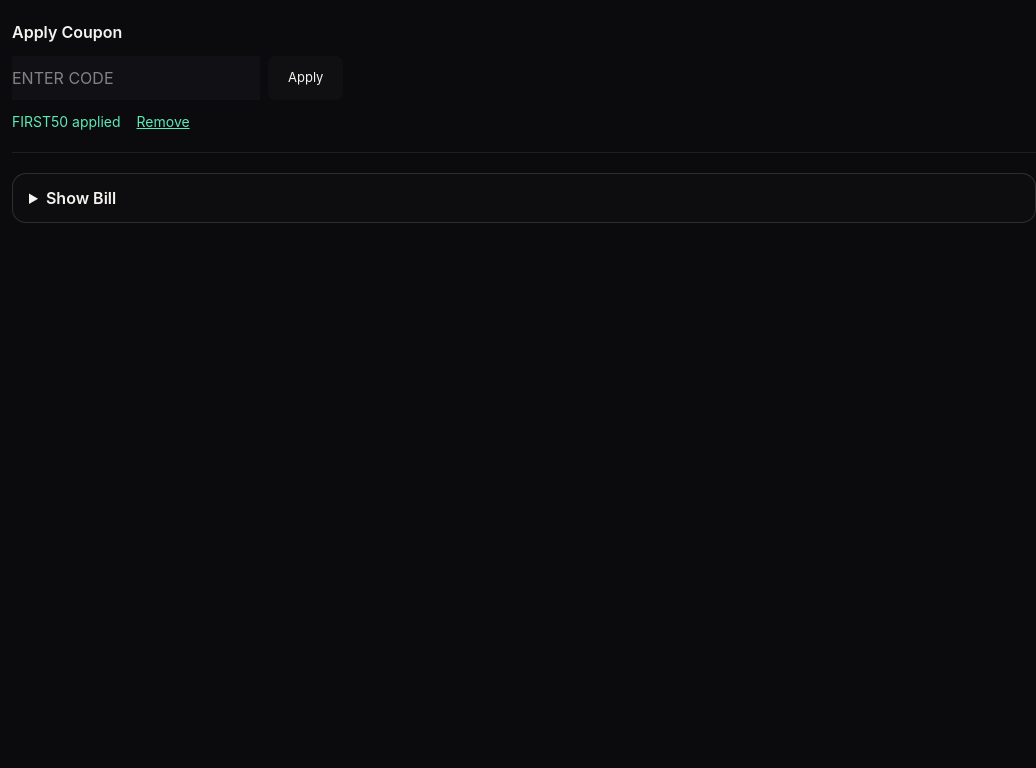
Test: shows server bill amounts, included tax and fee without calculating another total
Click the heading "Show Bill".
click(81, 198)  # box [46,188,116,208]
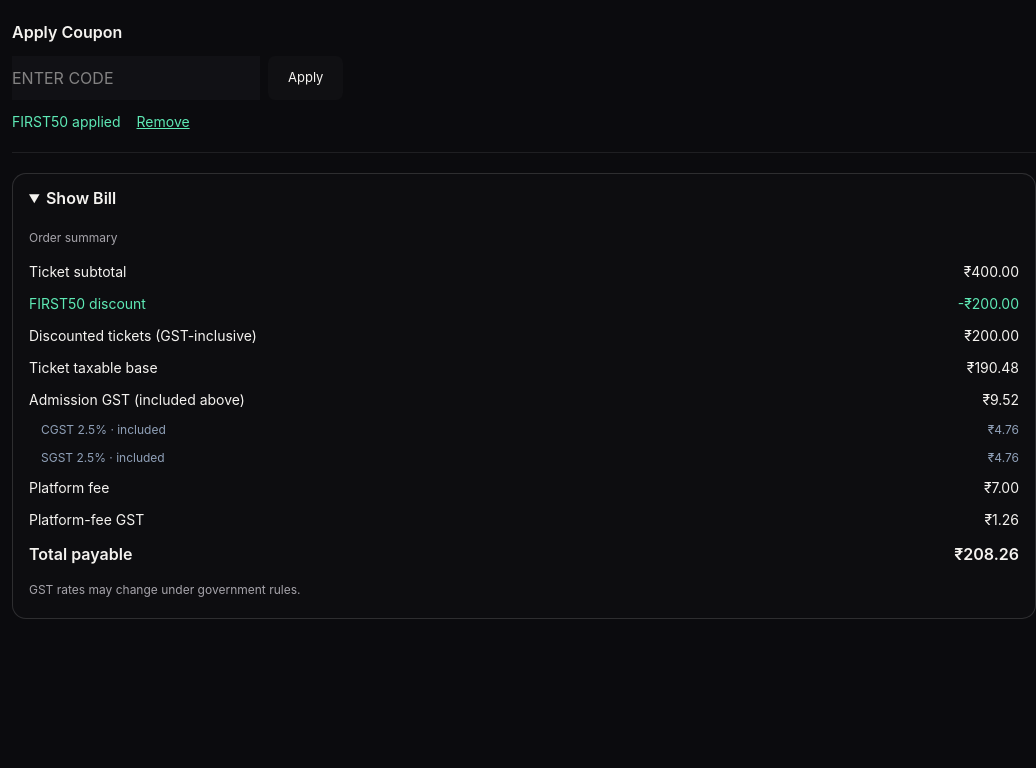
Now the text "₹208.26" is shown, box [954,542,1019,566]
Now the text "Admission GST (included above)" is shown, box [29,390,245,410]
Now the text "₹7.00" is shown, box [984,478,1019,498]
